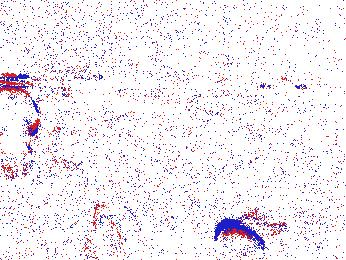flame jellyfish: (211, 208, 287, 260), (1, 87, 42, 181), (80, 201, 143, 260)
